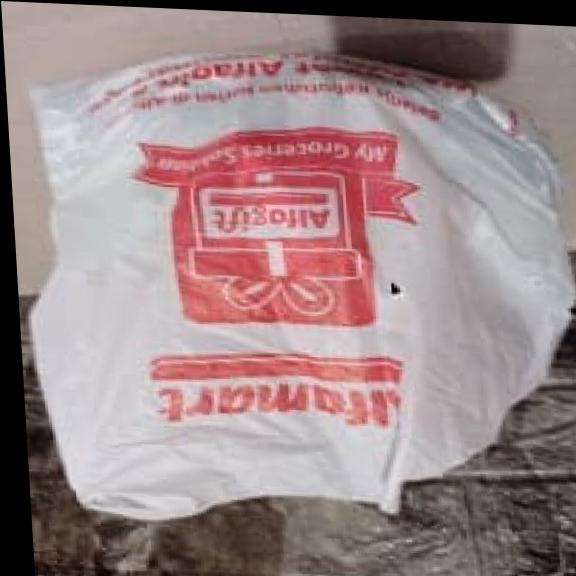Plastik: (33, 55, 568, 519)
